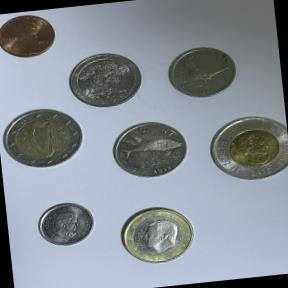1 Euro-B: (110, 199, 201, 270)
2 Euro-B: (0, 100, 86, 173)
Canada-10cent-B: (32, 197, 100, 252)
Canada-2Dollar-B: (200, 106, 288, 192)
Croatia-2Kune-B: (106, 114, 195, 184)
US-1cent-B: (0, 8, 62, 65)
US-25cent-B: (64, 46, 150, 114)
